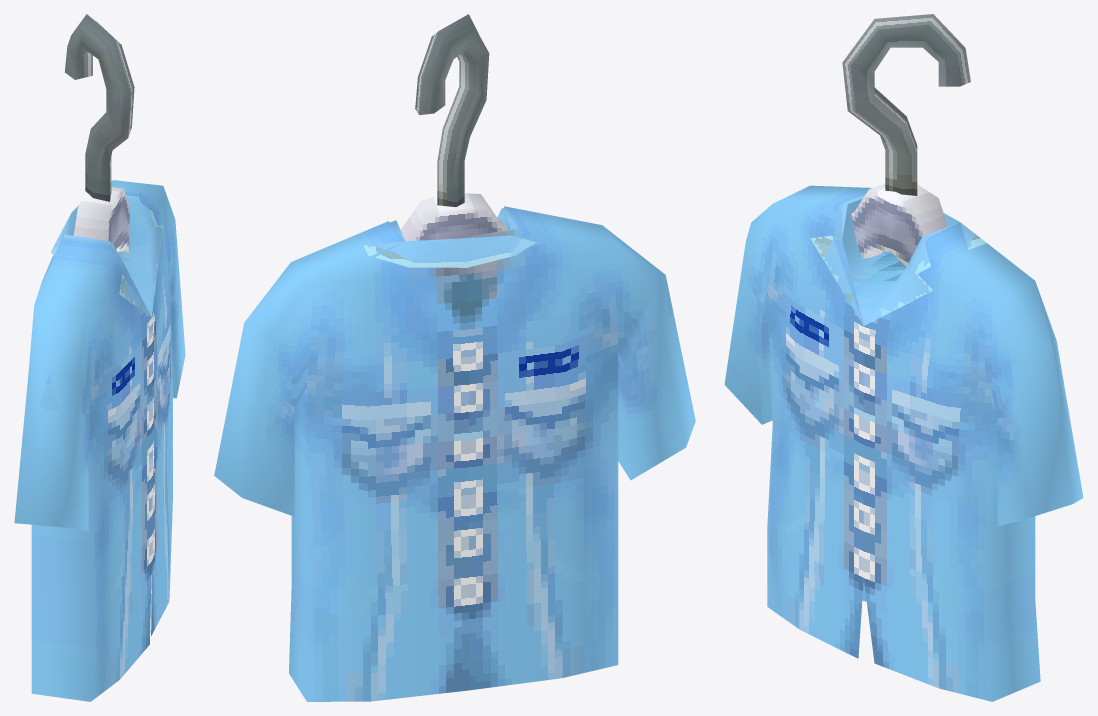
Rendered from fuku38-3.glb.
3 views of the same model, side by side, from view 1: azimuth 30°, elevation 25°; view 2: azimuth 150°, elevation 25°; view 3: azimuth 270°, elevation 25° (orthographic). The views are drawn at different scales.
Visible parts, largest first — view 1: fuku38_3; view 2: fuku38_3; view 3: fuku38_3.
Part boxes in pixels (x1,y1,x2,y2): fuku38_3: (14, 14, 185, 701); fuku38_3: (214, 14, 695, 701); fuku38_3: (724, 14, 1083, 701).
Bounding box in the file's own units: 67 × 130 × 67.
Materials: 4 (4 with a texture image).
